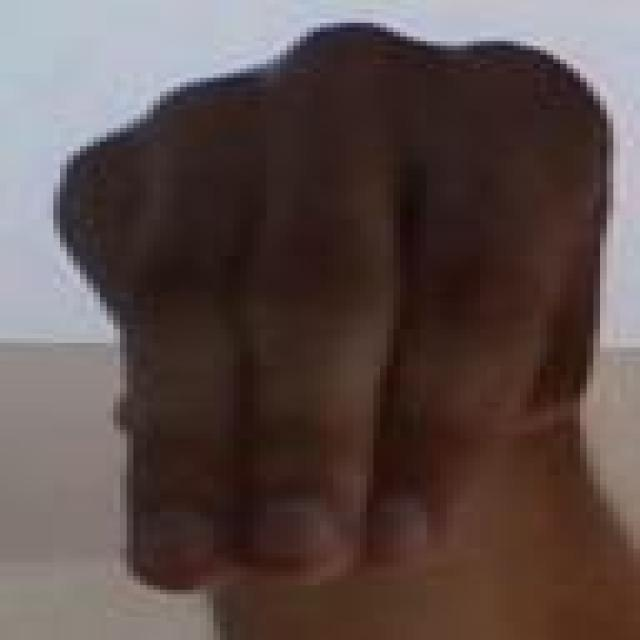M: (34, 23, 616, 599)
